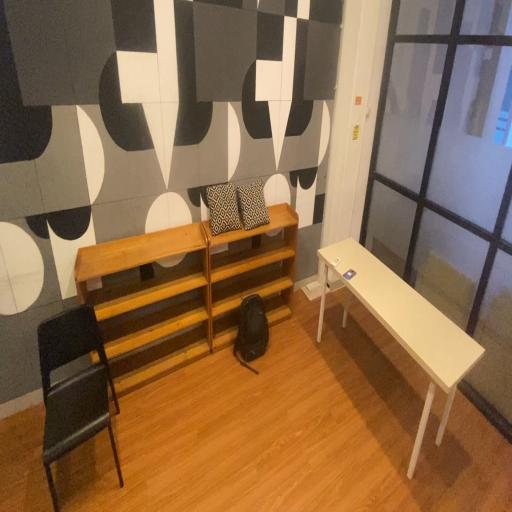bantal: (202, 176, 244, 240), (236, 176, 274, 232)
hp: (343, 260, 357, 288)
kursi: (33, 293, 131, 512)
lemari: (72, 214, 216, 406), (201, 198, 303, 358)
meja: (316, 233, 489, 492)
remote AC: (330, 251, 342, 272)
tas ransel: (236, 287, 272, 381)
